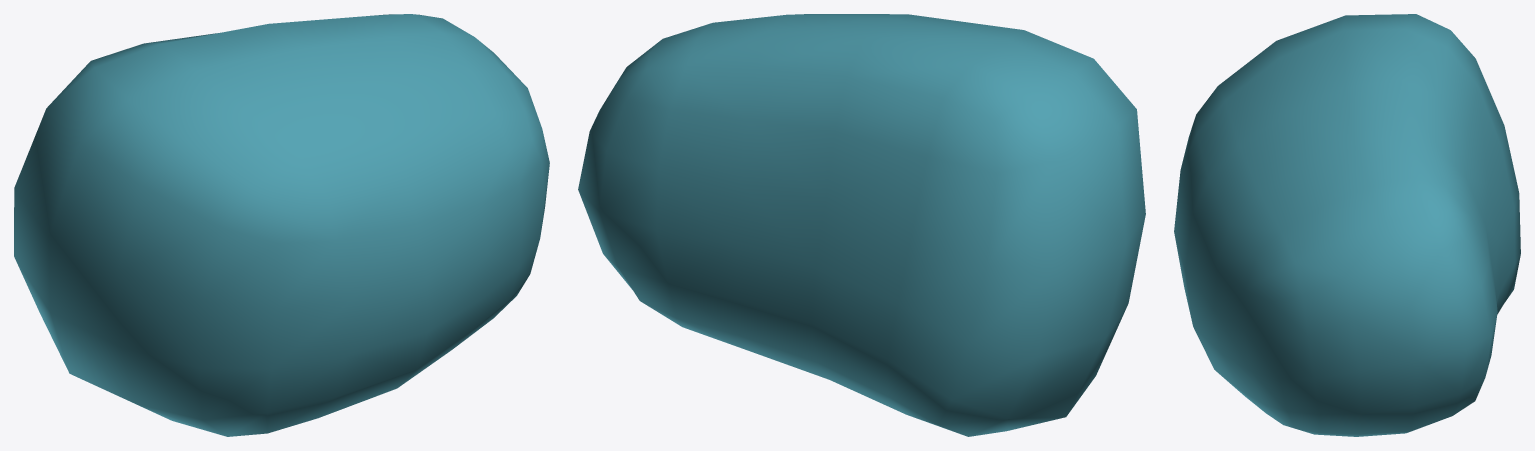
The model's file is VIS_Alpha_Surface_027.dae.
The picture shows the model from 3 angles, left to right: view 1: azimuth 30°, elevation 25°; view 2: azimuth 150°, elevation 25°; view 3: azimuth 270°, elevation 25°; orthographic projection. The views are drawn at different scales.
Visible parts, largest first — view 1: VIS_Alpha_Surface_027; view 2: VIS_Alpha_Surface_027; view 3: VIS_Alpha_Surface_027.
Boxes of the visible parts, bbox=[...] form: VIS_Alpha_Surface_027: bbox=[14, 14, 549, 436]; VIS_Alpha_Surface_027: bbox=[578, 14, 1145, 436]; VIS_Alpha_Surface_027: bbox=[1174, 14, 1520, 436].
Size of the model in its own units: 3.06 by 2.04 by 2.09.
